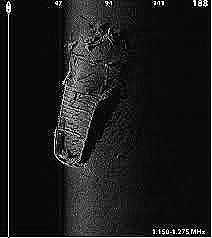ship: (51, 34, 110, 169)
